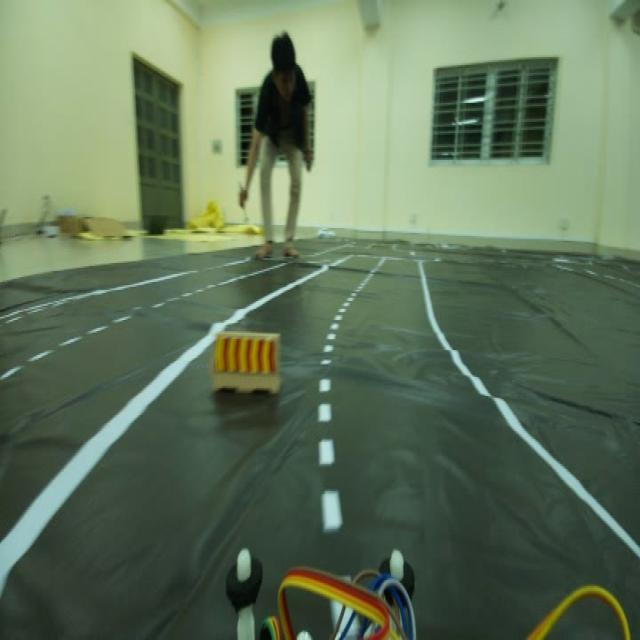roadblock: (209, 316, 287, 402)
